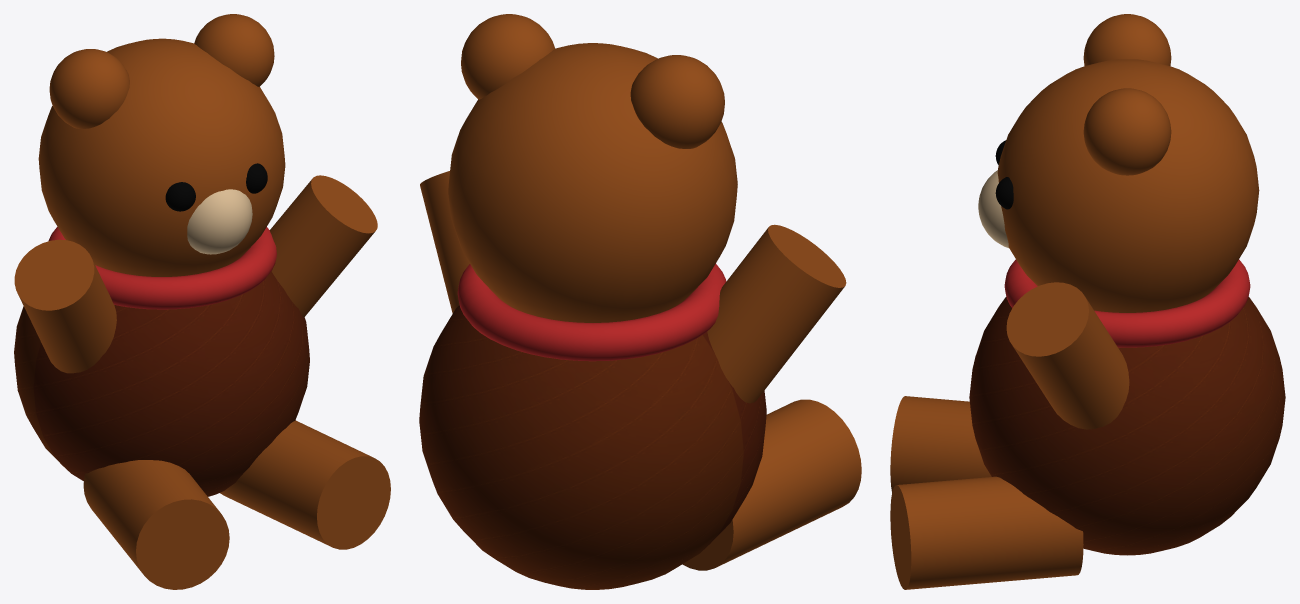
File: state-default.glb
3 renders of one model, left to right at view 1: azimuth 30°, elevation 25°; view 2: azimuth 150°, elevation 25°; view 3: azimuth 270°, elevation 25°, orthographic. The views are drawn at different scales.
Visible parts, largest first — view 1: assetPrim:2668d614a5e848-19c7443bb04:bear-body, assetPrim:2668d614a5e848-19c7443bb04:bear-head, assetPrim:2668d614a5e848-19c7443bb04:bear-leg-r, assetPrim:2668d614a5e848-19c7443bb04:bear-leg-l, assetPrim:2668d614a5e848-19c7443bb04:bear-arm-l, assetPrim:2668d614a5e848-19c7443bb04:bear-arm-r, assetPrim:2668d614a5e848-19c7443bb04:bear-ribbon, assetPrim:2668d614a5e848-19c7443bb04:bear-ear-l, assetPrim:2668d614a5e848-19c7443bb04:bear-ear-r, assetPrim:2668d614a5e848-19c7443bb04:bear-snout, assetPrim:2668d614a5e848-19c7443bb04:bear-eye-l, assetPrim:2668d614a5e848-19c7443bb04:bear-eye-r; view 2: assetPrim:2668d614a5e848-19c7443bb04:bear-body, assetPrim:2668d614a5e848-19c7443bb04:bear-head, assetPrim:2668d614a5e848-19c7443bb04:bear-arm-l, assetPrim:2668d614a5e848-19c7443bb04:bear-leg-l, assetPrim:2668d614a5e848-19c7443bb04:bear-ribbon, assetPrim:2668d614a5e848-19c7443bb04:bear-ear-l, assetPrim:2668d614a5e848-19c7443bb04:bear-ear-r, assetPrim:2668d614a5e848-19c7443bb04:bear-arm-r; view 3: assetPrim:2668d614a5e848-19c7443bb04:bear-body, assetPrim:2668d614a5e848-19c7443bb04:bear-head, assetPrim:2668d614a5e848-19c7443bb04:bear-leg-r, assetPrim:2668d614a5e848-19c7443bb04:bear-arm-r, assetPrim:2668d614a5e848-19c7443bb04:bear-leg-l, assetPrim:2668d614a5e848-19c7443bb04:bear-ribbon, assetPrim:2668d614a5e848-19c7443bb04:bear-ear-r, assetPrim:2668d614a5e848-19c7443bb04:bear-ear-l, assetPrim:2668d614a5e848-19c7443bb04:bear-snout.
Part boxes in pixels (x1,y1,x2,y2): assetPrim:2668d614a5e848-19c7443bb04:bear-body: [14, 271, 309, 496]; assetPrim:2668d614a5e848-19c7443bb04:bear-head: [38, 38, 285, 276]; assetPrim:2668d614a5e848-19c7443bb04:bear-leg-r: [220, 420, 390, 549]; assetPrim:2668d614a5e848-19c7443bb04:bear-leg-l: [83, 460, 229, 589]; assetPrim:2668d614a5e848-19c7443bb04:bear-arm-l: [14, 239, 116, 373]; assetPrim:2668d614a5e848-19c7443bb04:bear-arm-r: [270, 175, 377, 317]; assetPrim:2668d614a5e848-19c7443bb04:bear-ribbon: [48, 227, 276, 309]; assetPrim:2668d614a5e848-19c7443bb04:bear-ear-l: [49, 49, 129, 128]; assetPrim:2668d614a5e848-19c7443bb04:bear-ear-r: [194, 14, 274, 86]; assetPrim:2668d614a5e848-19c7443bb04:bear-snout: [187, 189, 252, 254]; assetPrim:2668d614a5e848-19c7443bb04:bear-eye-l: [165, 182, 195, 211]; assetPrim:2668d614a5e848-19c7443bb04:bear-eye-r: [246, 163, 267, 193]; assetPrim:2668d614a5e848-19c7443bb04:bear-body: [419, 305, 766, 589]; assetPrim:2668d614a5e848-19c7443bb04:bear-head: [448, 43, 737, 322]; assetPrim:2668d614a5e848-19c7443bb04:bear-arm-l: [707, 224, 846, 403]; assetPrim:2668d614a5e848-19c7443bb04:bear-leg-l: [682, 399, 861, 570]; assetPrim:2668d614a5e848-19c7443bb04:bear-ribbon: [457, 263, 726, 361]; assetPrim:2668d614a5e848-19c7443bb04:bear-ear-l: [630, 55, 724, 148]; assetPrim:2668d614a5e848-19c7443bb04:bear-ear-r: [461, 14, 554, 99]; assetPrim:2668d614a5e848-19c7443bb04:bear-arm-r: [420, 171, 469, 313]; assetPrim:2668d614a5e848-19c7443bb04:bear-body: [969, 297, 1285, 555]; assetPrim:2668d614a5e848-19c7443bb04:bear-head: [997, 59, 1259, 312]; assetPrim:2668d614a5e848-19c7443bb04:bear-leg-r: [890, 476, 1083, 589]; assetPrim:2668d614a5e848-19c7443bb04:bear-arm-r: [1006, 282, 1129, 429]; assetPrim:2668d614a5e848-19c7443bb04:bear-leg-l: [890, 396, 991, 492]; assetPrim:2668d614a5e848-19c7443bb04:bear-ribbon: [1004, 259, 1250, 347]; assetPrim:2668d614a5e848-19c7443bb04:bear-ear-r: [1083, 88, 1171, 175]; assetPrim:2668d614a5e848-19c7443bb04:bear-ear-l: [1083, 14, 1171, 65]; assetPrim:2668d614a5e848-19c7443bb04:bear-snout: [978, 170, 1008, 247].
Size of the model in its own units: 0.247 by 0.305 by 0.225.
Materials: 12 (1 with a texture image).
